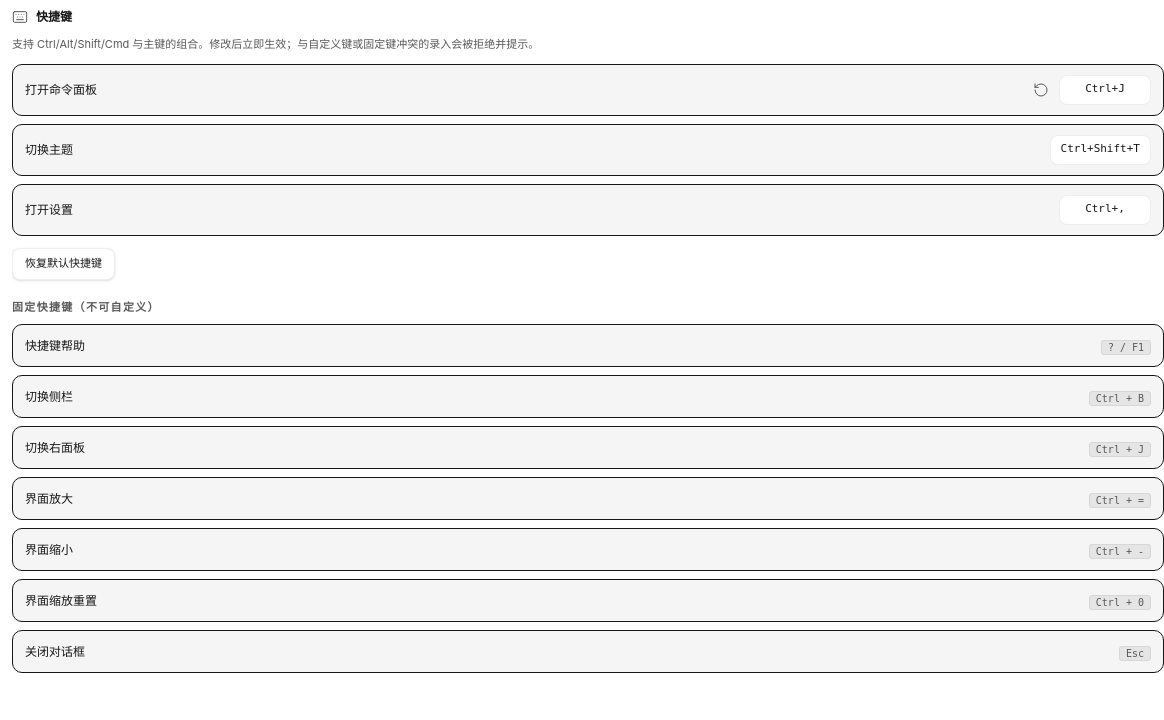
Test case: ShortcutsSection › V6 单键恢复默认：与默认值不同时显示重置钮，点击还原
The width and height of the screenshot is (1164, 720).
Click the button named "恢复默认".
click(1041, 90)  # box [1029,78,1053,102]
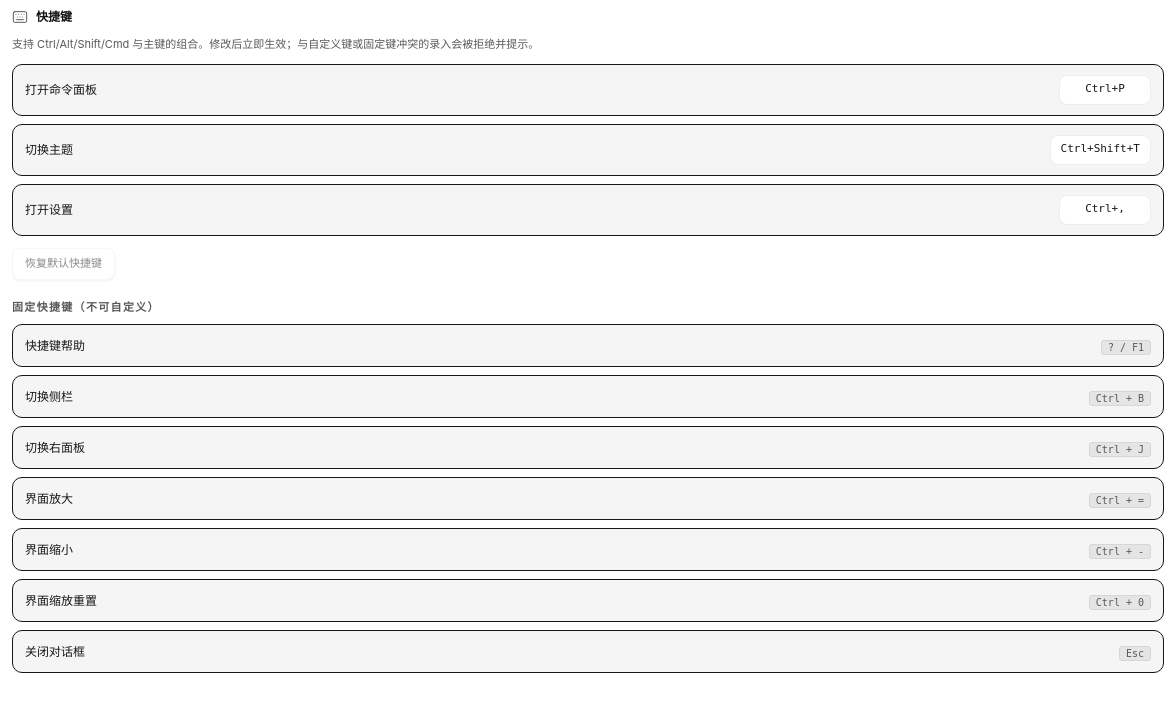
expect the button "Ctrl+P" is shown: met, box [1059,75,1151,105]
